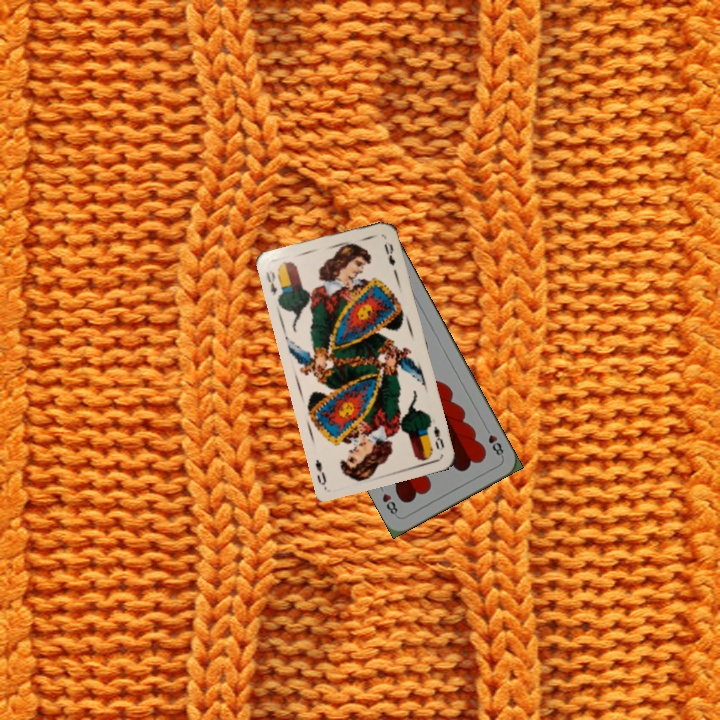EO: (424, 417, 447, 452), (262, 266, 280, 298)
H8: (481, 423, 506, 460)
